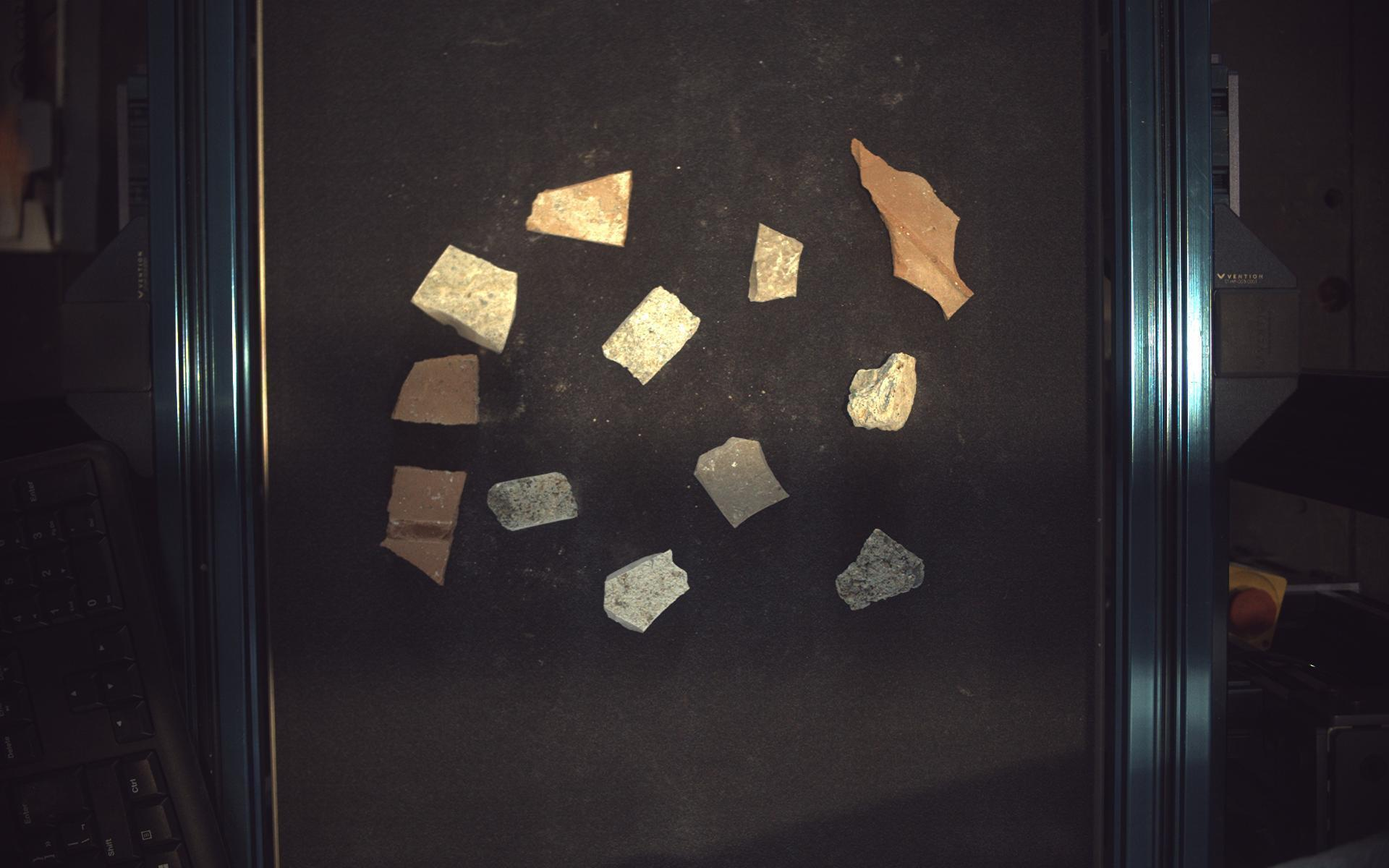brick: (853, 137, 975, 318), (381, 466, 467, 586), (526, 170, 633, 246), (391, 354, 479, 425)
concrete: (603, 286, 701, 385), (838, 529, 926, 611), (849, 352, 919, 431), (488, 472, 577, 532)
tile: (412, 245, 517, 352), (695, 437, 790, 528), (604, 550, 690, 634), (749, 223, 804, 302)
